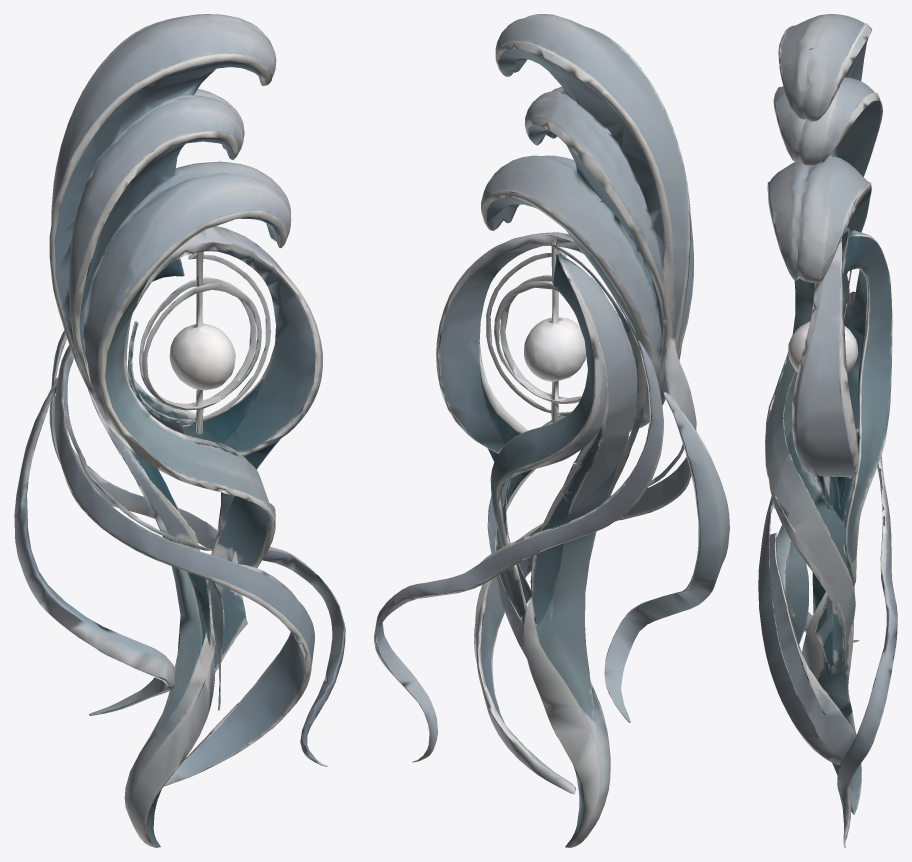
The model's file is eco.glb.
The picture shows the model from 3 angles, left to right: view 1: azimuth 30°, elevation 25°; view 2: azimuth 150°, elevation 25°; view 3: azimuth 270°, elevation 25°; orthographic projection. The views are drawn at different scales.
Parts seen in each view (by area): view 1: Malla; view 2: Malla; view 3: Malla.
Boxes of the visible parts, bbox=[...] form: Malla: bbox=[14, 14, 345, 847]; Malla: bbox=[374, 14, 729, 847]; Malla: bbox=[758, 14, 897, 847].
Bounding box in the file's own units: 0.7299 × 1.7 × 0.2677.
1 material, 1 textured.
